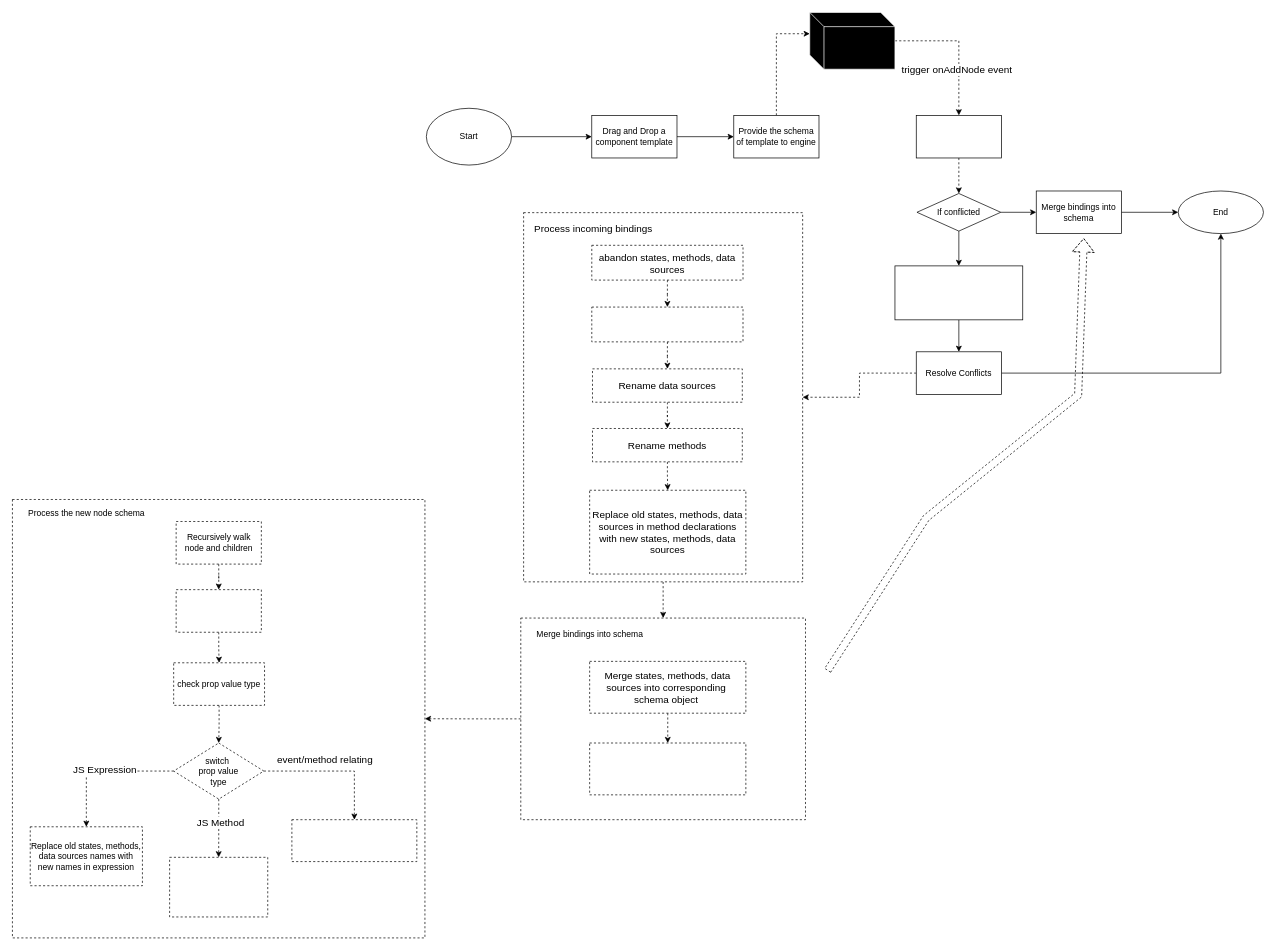
Some shapes in this 1276 by 951 pixel diagram are drawn without their labels. Here are the shapes that lost their labels. From the top down, the centre of each, then its label:
At (852,40): "Engine".
At (958,136): "Check conflicts of template bindings".
At (958,292): "Popup conflict resolution dialog (rename or abandon incoming assets)".
At (667,324): "Rename states".
At (218,610): "Recursively walk props".
At (667,768): "Merge the state code, method declaration code into source code using gogocode".
At (354,840): "correct the relating to point to the new method".
At (218,887): "Replace the old method name with new name in the expression".
